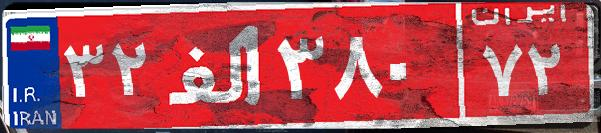0: (385, 28, 445, 110)
2: (110, 28, 158, 105), (525, 38, 570, 115)
3: (273, 28, 330, 110), (57, 26, 110, 107)
7: (475, 38, 525, 113)
8: (330, 28, 385, 110)
الف: (158, 15, 273, 115)
